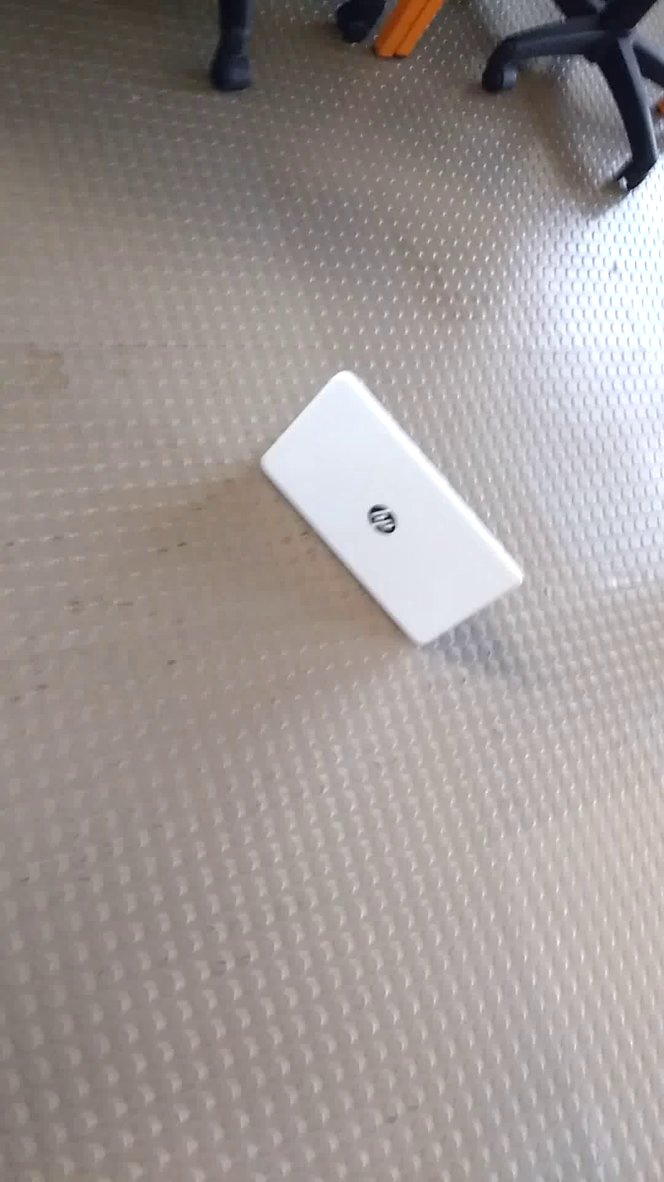laptop: (252, 361, 538, 657)
